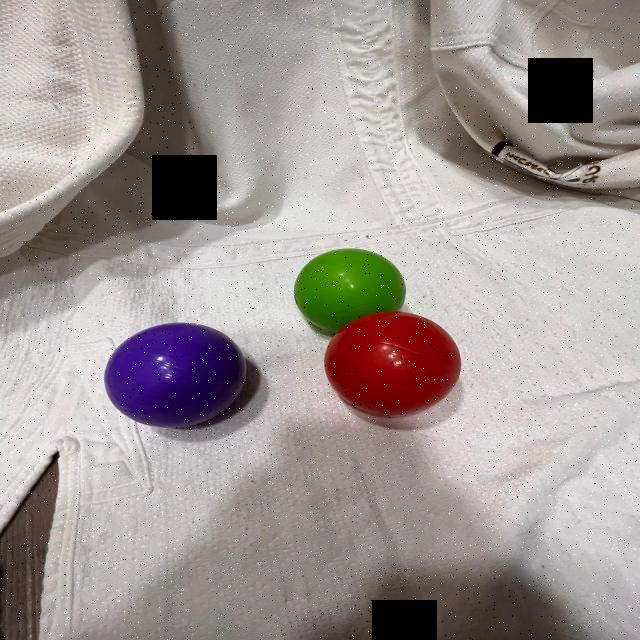ball: (100, 322, 250, 429), (325, 310, 465, 418), (290, 247, 409, 310)
